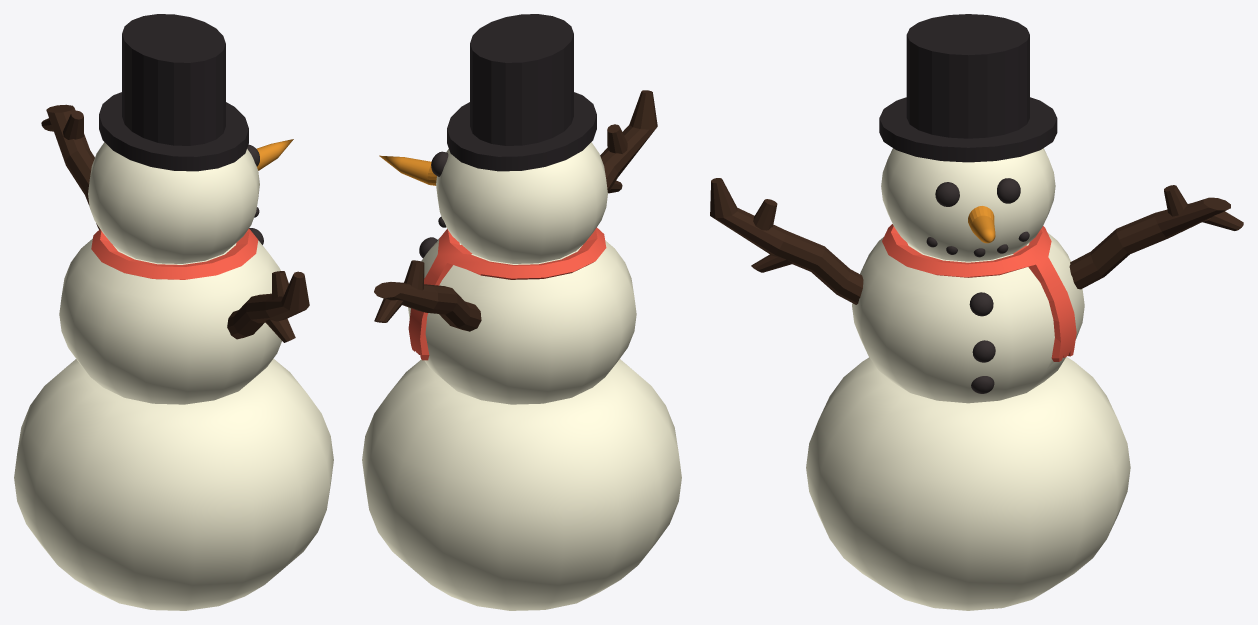
File: bonhomme1.glb
The picture shows the model from 3 angles, left to right: view 1: azimuth 30°, elevation 25°; view 2: azimuth 150°, elevation 25°; view 3: azimuth 270°, elevation 25°; orthographic projection.
Parts seen in each view (by area): view 1: Model_Stick_0; view 2: Model_Stick_0; view 3: Model_Stick_0.
Part boxes in pixels (x1=…): Model_Stick_0: x1=14, y1=14, x2=333, y2=610; Model_Stick_0: x1=362, y1=14, x2=681, y2=610; Model_Stick_0: x1=710, y1=14, x2=1243, y2=610.
Size of the model in its own units: 4.63 by 8.46 by 7.6.
Materials: 1 (1 with a texture image).
